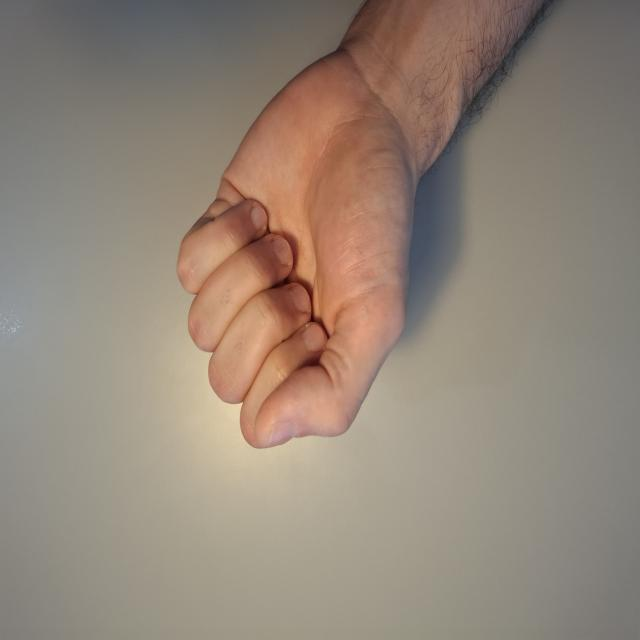glove_off: (174, 35, 428, 452)
